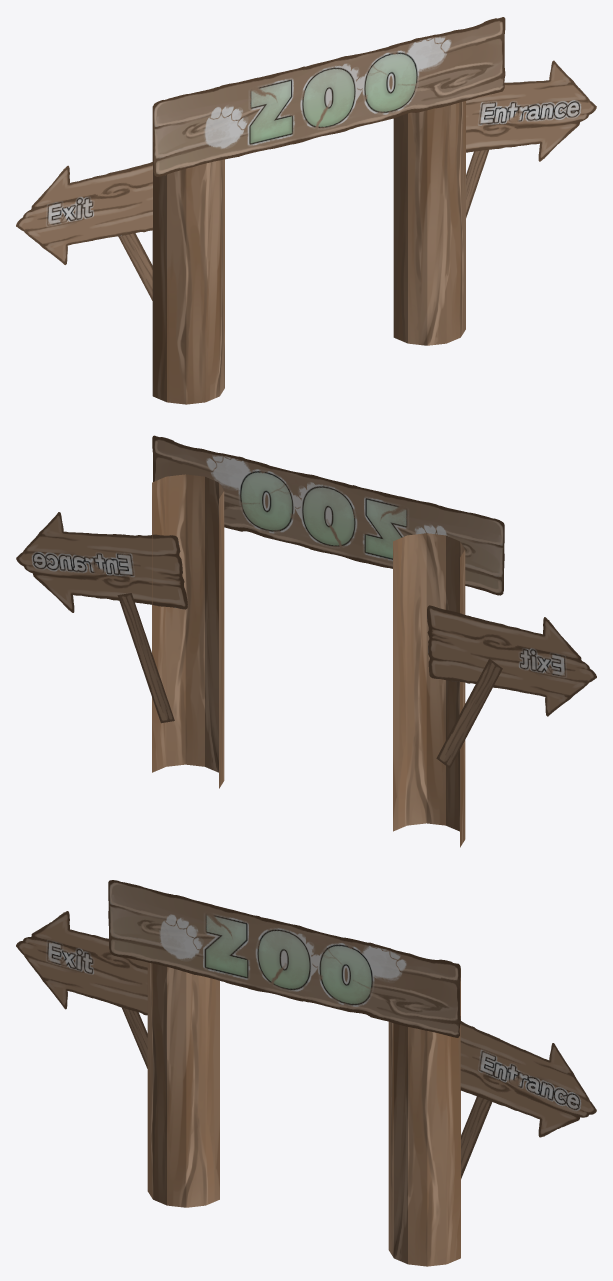
File: gate.fbx
The picture shows the model from 3 angles, top to bottom: view 1: azimuth 30°, elevation 25°; view 2: azimuth 150°, elevation 25°; view 3: azimuth 330°, elevation 25°; orthographic projection.
Visible parts, largest first — view 1: pCylinder2, pCube1, pCube4, pCube2, pCube5, pCube3; view 2: pCylinder2, pCube1, pCube2, pCube4, pCube3, pCube5; view 3: pCylinder2, pCube1, pCube2, pCube4, pCube3, pCube5.
Part boxes in pixels (box(x1,y1,x2,y2)): pCylinder2: box(152, 101, 465, 404); pCube1: box(153, 17, 505, 176); pCube4: box(16, 162, 152, 264); pCube2: box(466, 60, 596, 161); pCube5: box(118, 233, 152, 300); pCube3: box(466, 149, 488, 217); pCylinder2: box(152, 474, 465, 847); pCube1: box(152, 435, 504, 595); pCube2: box(16, 512, 187, 612); pCube4: box(427, 605, 596, 716); pCube3: box(117, 593, 174, 723); pCube5: box(436, 658, 502, 768); pCylinder2: box(147, 962, 460, 1266); pCube1: box(108, 880, 460, 1037); pCube2: box(460, 1021, 596, 1137); pCube4: box(16, 911, 147, 1015); pCube3: box(461, 1096, 492, 1178); pCube5: box(122, 1007, 147, 1068).
Size of the model in its own units: 17.48 by 9.07 by 1.24.
Materials: 1 (1 with a texture image).
